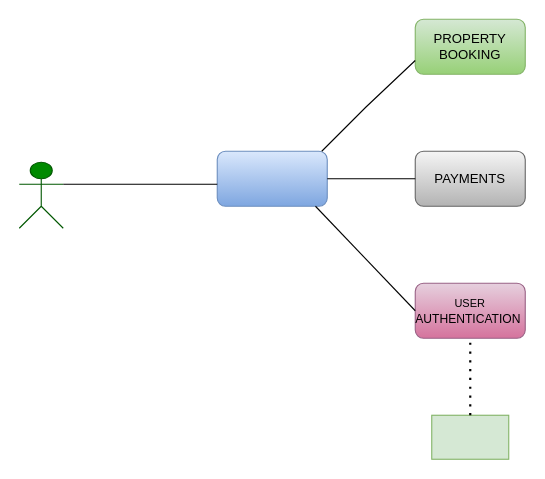
Image size: 545x479. Some labels were removed from this diagram. Here are the shapes that lost their labels. From the top down, the centre of each, then its label:
[271,178]: USER REGISTRATION
[470,436]: SYSTEM
